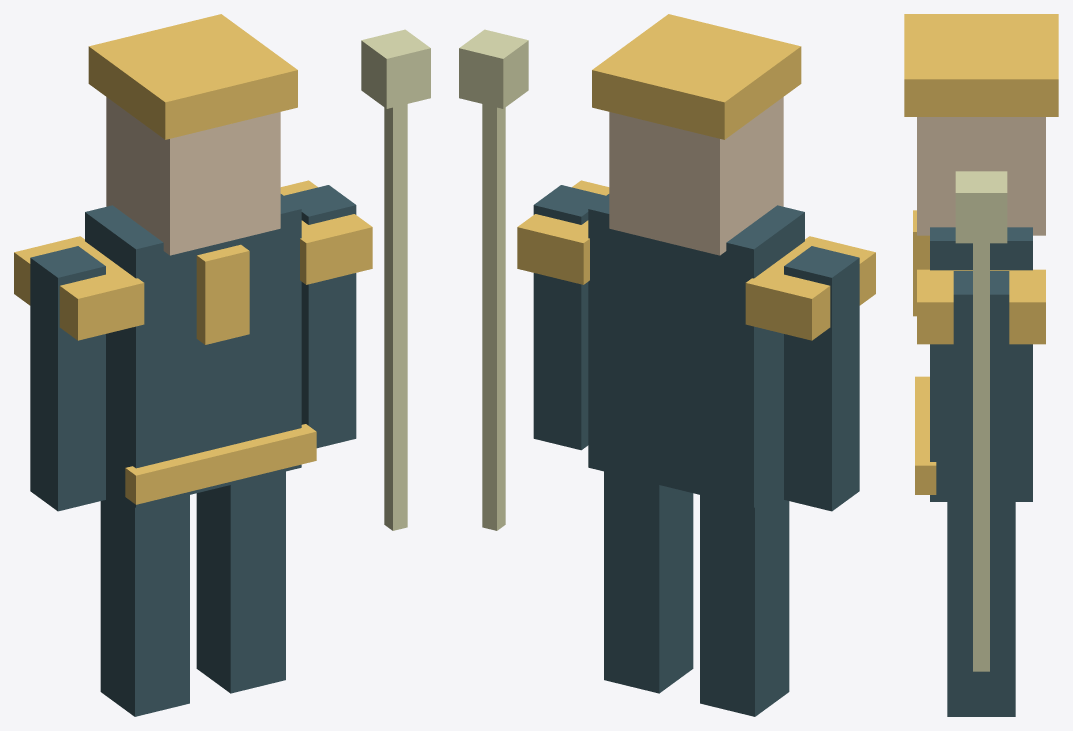
The model's file is 08_juno_latchward_custodian_near_spectator.glb.
The picture shows the model from 3 angles, left to right: view 1: azimuth 30°, elevation 25°; view 2: azimuth 150°, elevation 25°; view 3: azimuth 270°, elevation 25°; orthographic projection.
Visible parts, largest first — view 1: Juno Latchward, Custodian near Spectator; view 2: Juno Latchward, Custodian near Spectator; view 3: Juno Latchward, Custodian near Spectator.
Boxes of the visible parts, <box> form: Juno Latchward, Custodian near Spectator: <box>14,14,430,716</box>; Juno Latchward, Custodian near Spectator: <box>459,14,875,716</box>; Juno Latchward, Custodian near Spectator: <box>904,14,1058,716</box>.
Bounding box in the file's own units: 0.9604 × 1.54 × 0.3406.
